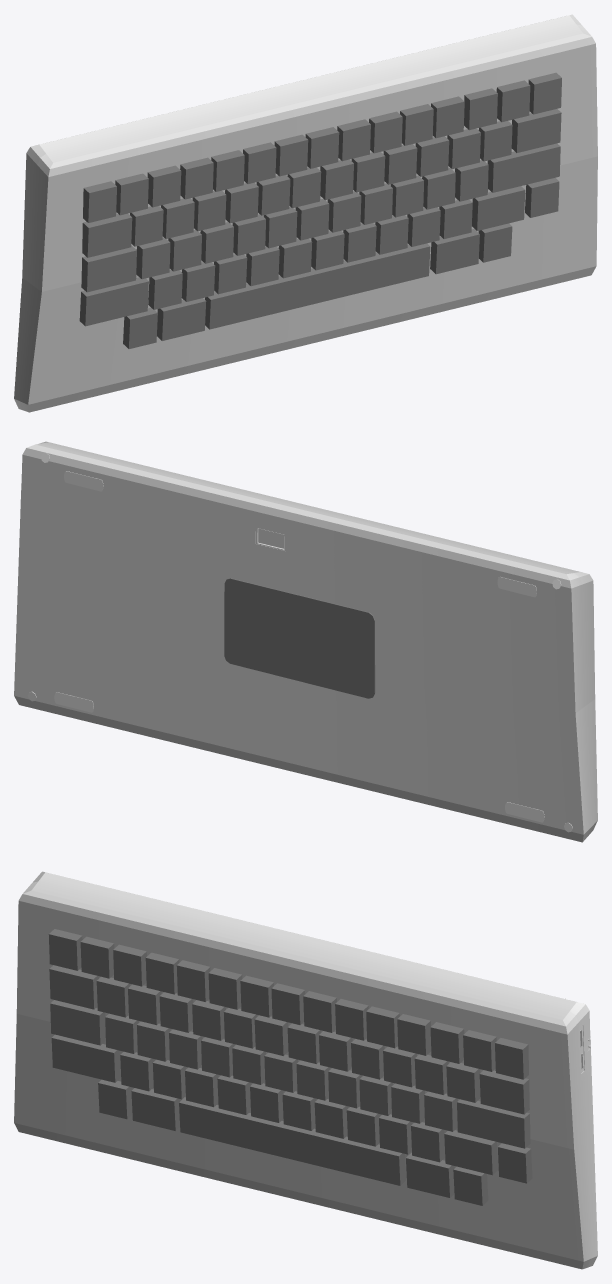
Rendered from SM_Int_Keyboard.fbx.
3 views of the same model, one above another, from view 1: azimuth 30°, elevation 25°; view 2: azimuth 150°, elevation 25°; view 3: azimuth 330°, elevation 25° (orthographic).
Visible parts, largest first — view 1: SM_Int_Keyboard; view 2: SM_Int_Keyboard; view 3: SM_Int_Keyboard.
Boxes of the visible parts, bbox=[...] form: SM_Int_Keyboard: bbox=[14, 14, 597, 412]; SM_Int_Keyboard: bbox=[14, 441, 597, 842]; SM_Int_Keyboard: bbox=[14, 871, 597, 1269].
Size of the model in its own units: 182 by 80 by 15.59.
